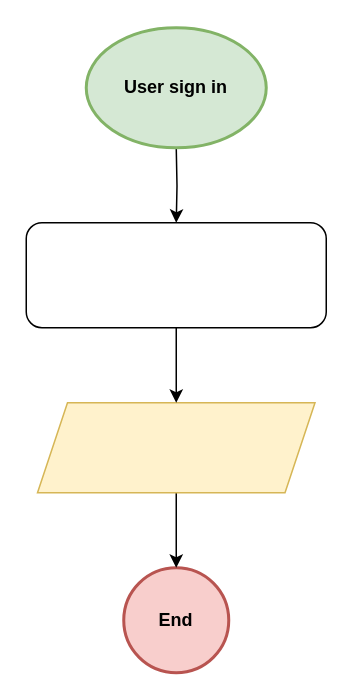
Image size: 353x699. Some labels were removed from this diagram. Here are the shapes that lost their labels. From the top down, the centre of each, then its label:
point (175, 274): User membuka profile
point (175, 447): profil user beserta data-data user
